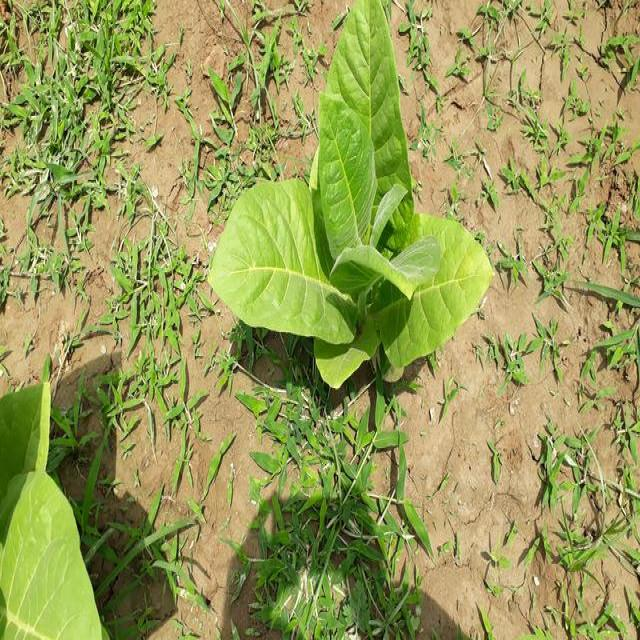crop: (208, 0, 490, 395)
